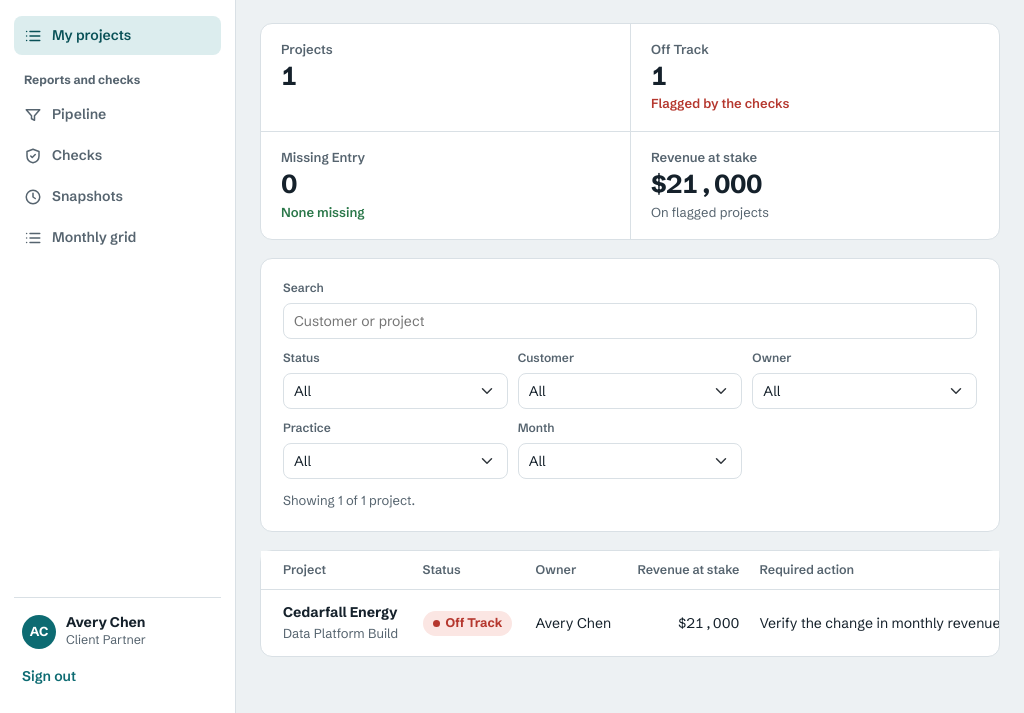
it: Project page › never shows raw JSON or database identifiers in the main view
(page scrolled)
Click the row named "Open Cedarfall Energy": (340, 612) [261,590,1023,656]
(page scrolled)
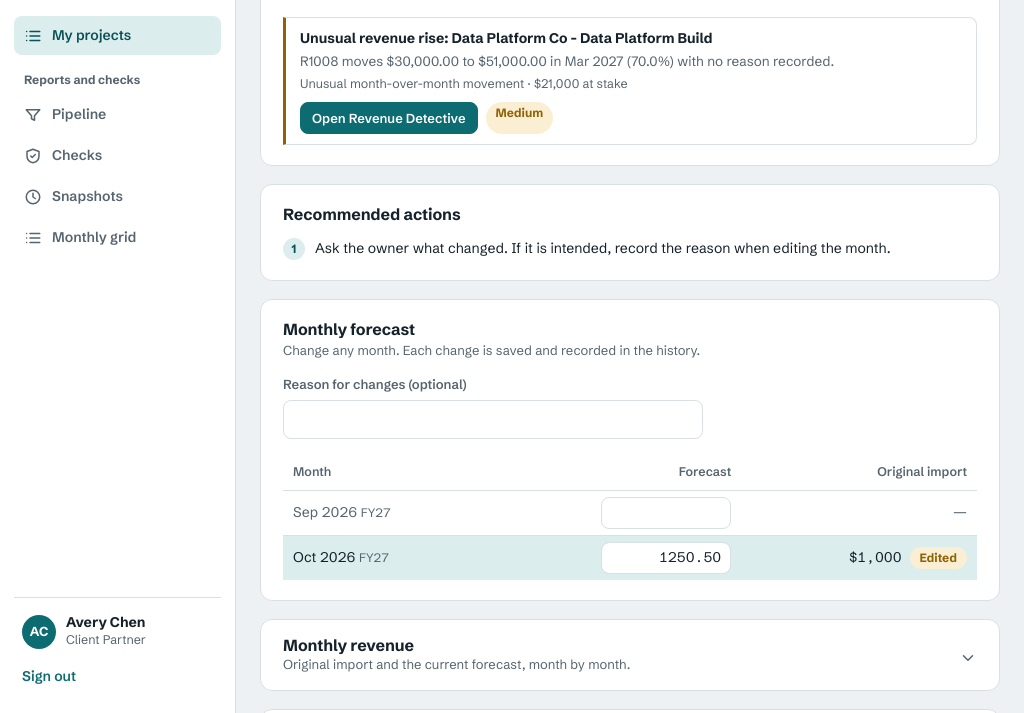
expect the heading "Monthly forecast" is shown: met, box [283,319,415,339]
